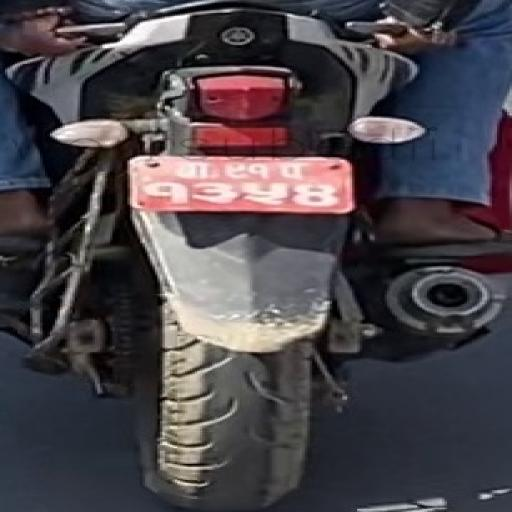license_plate: (126, 154, 357, 215)
